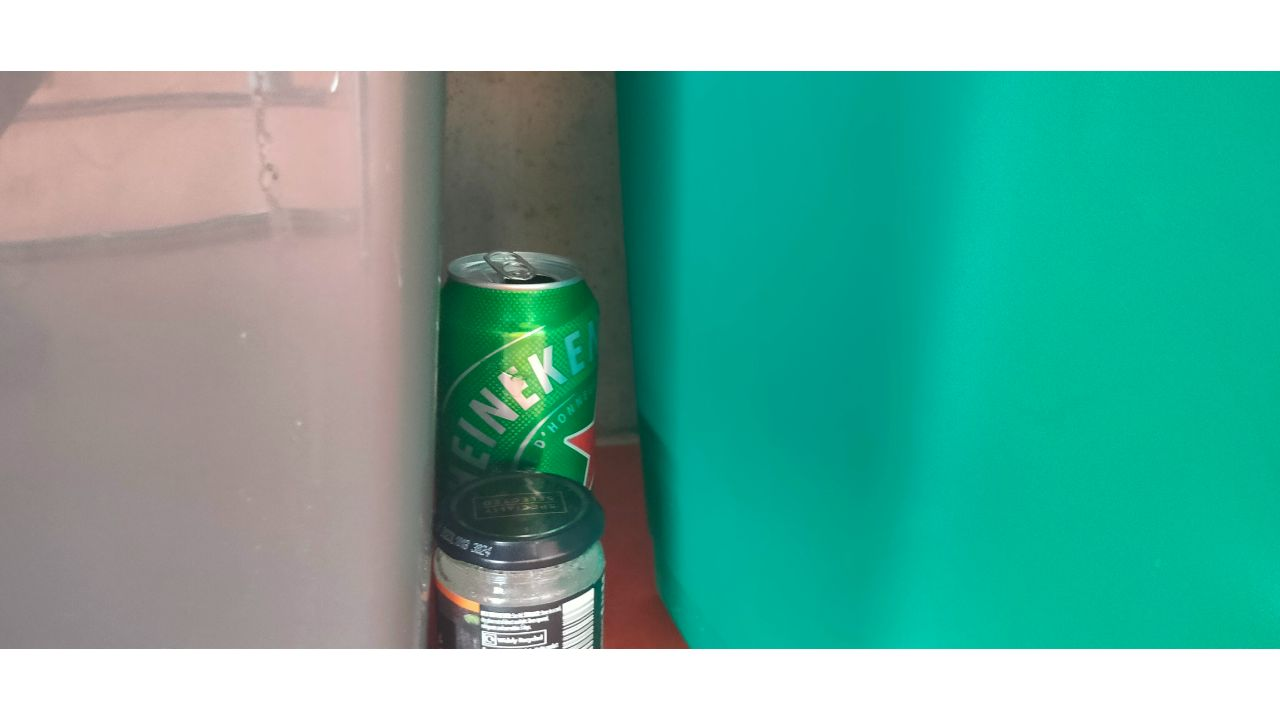Can: (439, 250, 598, 515)
